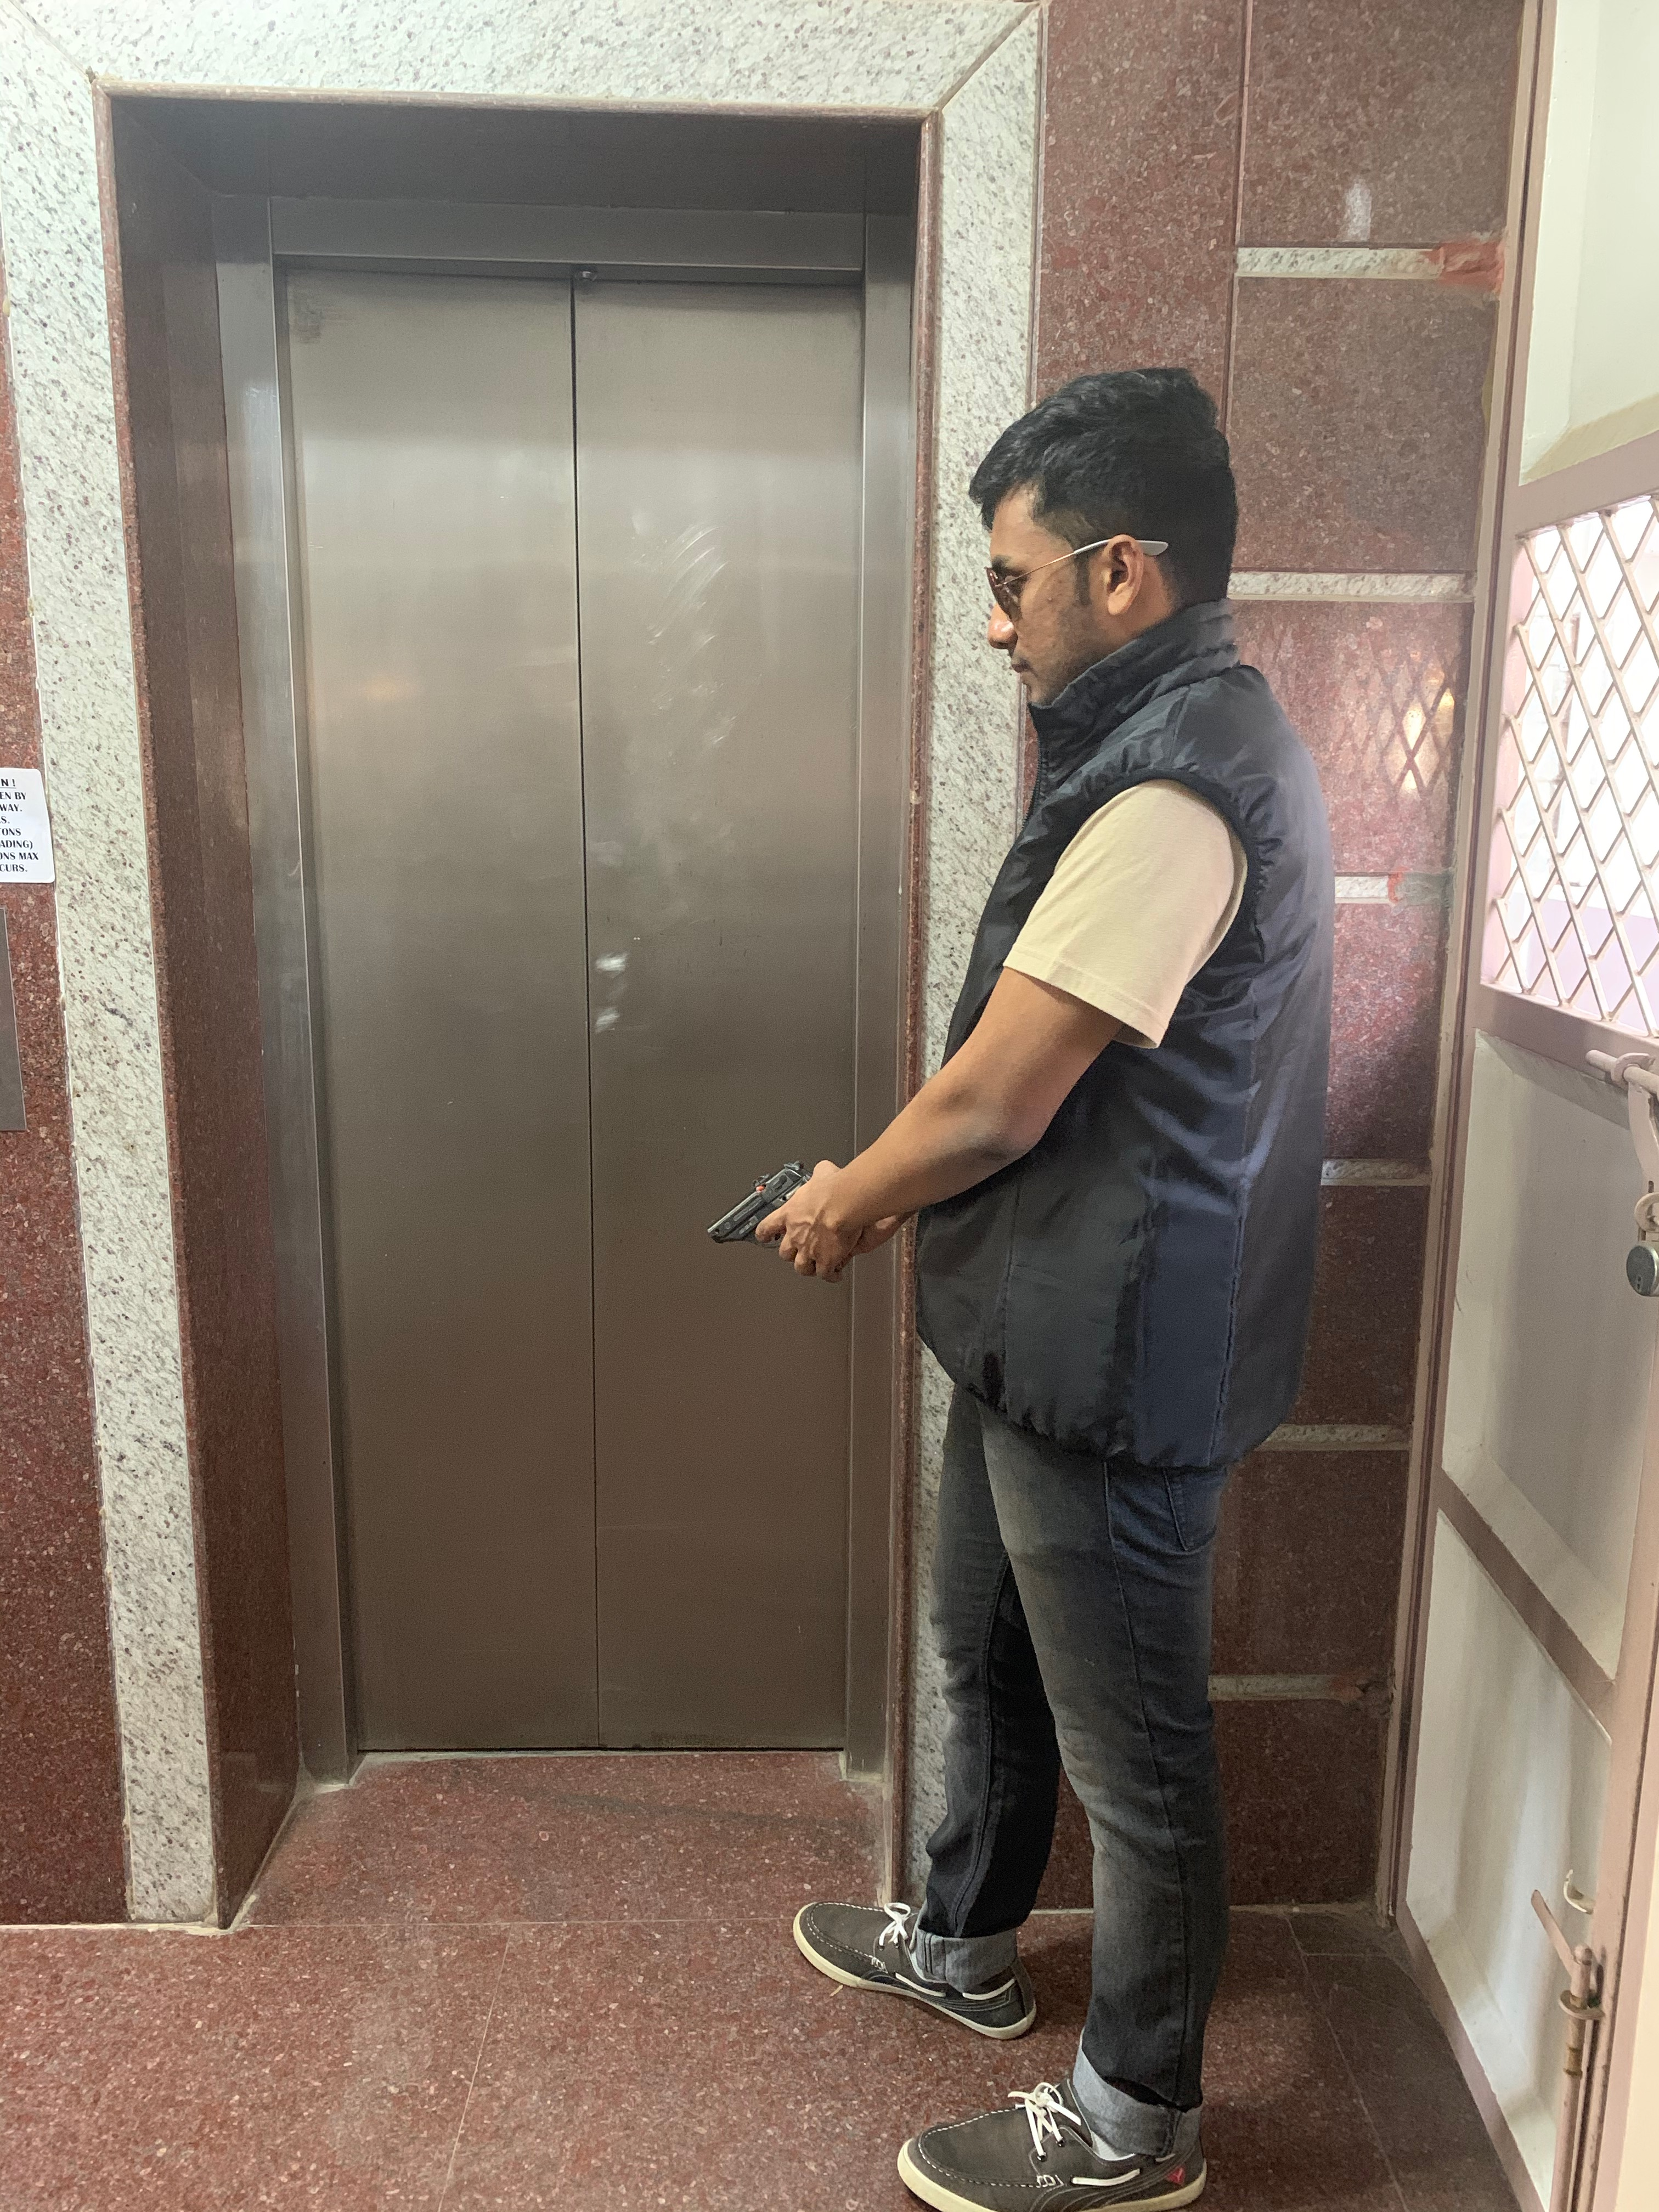gun: (694, 1143, 816, 1256)
